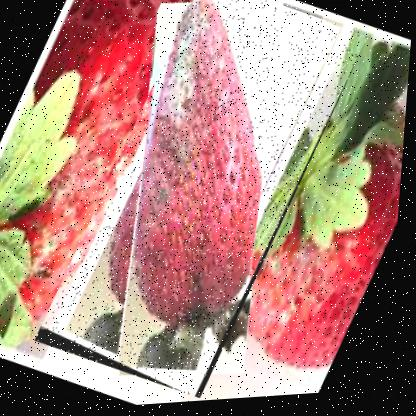strawberry_rotten: (33, 0, 373, 412)
